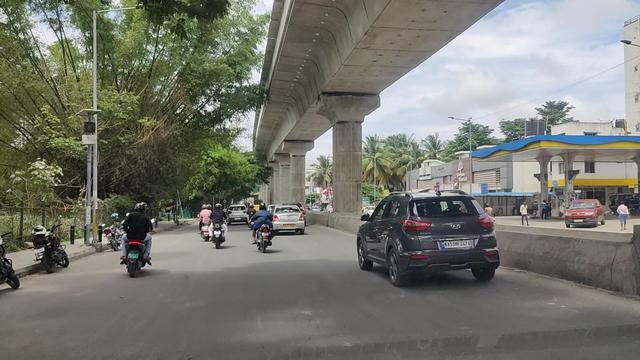LMV: (362, 188, 502, 289), (125, 205, 155, 279), (251, 200, 277, 253), (209, 203, 227, 249)
